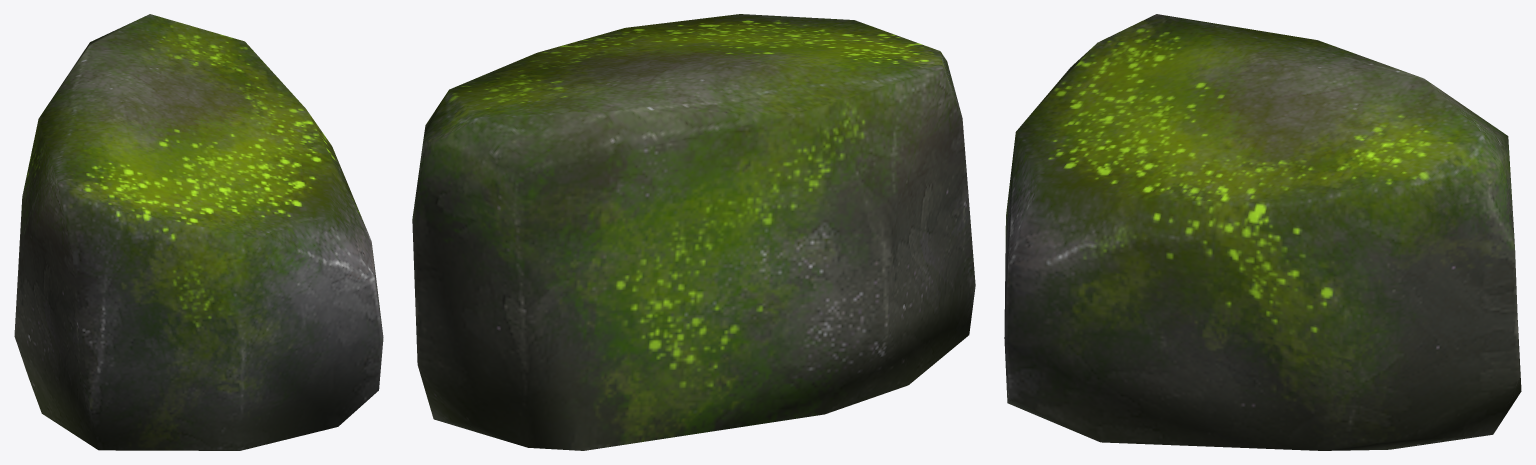
Rendered from rock6.fbx.
3 views of the same model, side by side, from view 1: azimuth 30°, elevation 25°; view 2: azimuth 150°, elevation 25°; view 3: azimuth 270°, elevation 25° (orthographic). The views are drawn at different scales.
Parts seen in each view (by area): view 1: rocks1_5; view 2: rocks1_5; view 3: rocks1_5.
Part boxes in pixels (left/top/right/bottom): rocks1_5: left=14, top=14, right=383, bottom=450; rocks1_5: left=412, top=14, right=975, bottom=450; rocks1_5: left=1004, top=14, right=1521, bottom=450.
Bounding box in the file's own units: 360 × 280 × 447.
